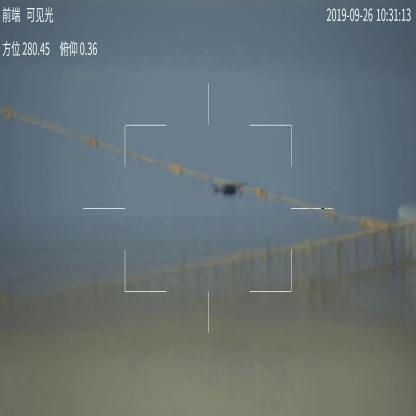uav: (207, 180, 247, 198)
